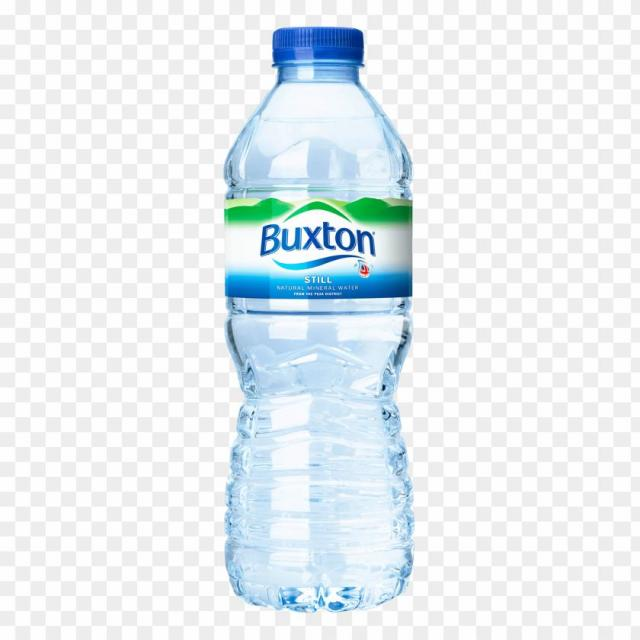bottle: (194, 9, 454, 640)
